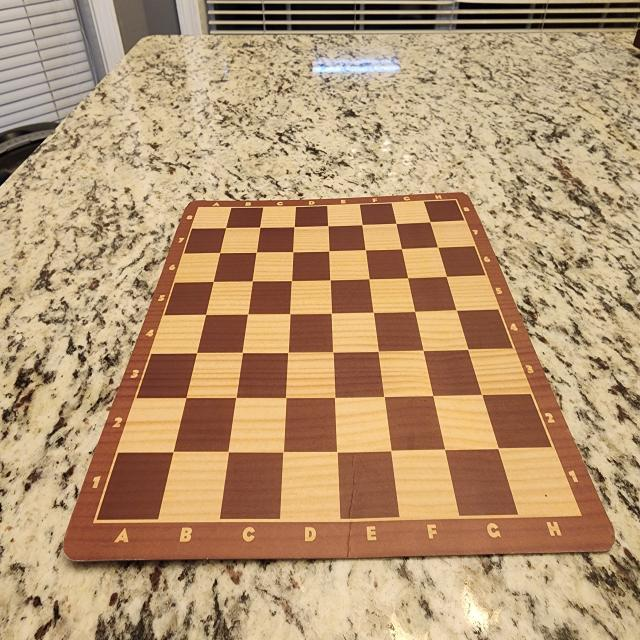Bottom-Left: (93, 453, 172, 523)
Bottom-Right: (500, 449, 581, 516)
Top-Left: (198, 207, 226, 227)
Top-Right: (431, 199, 456, 221)
